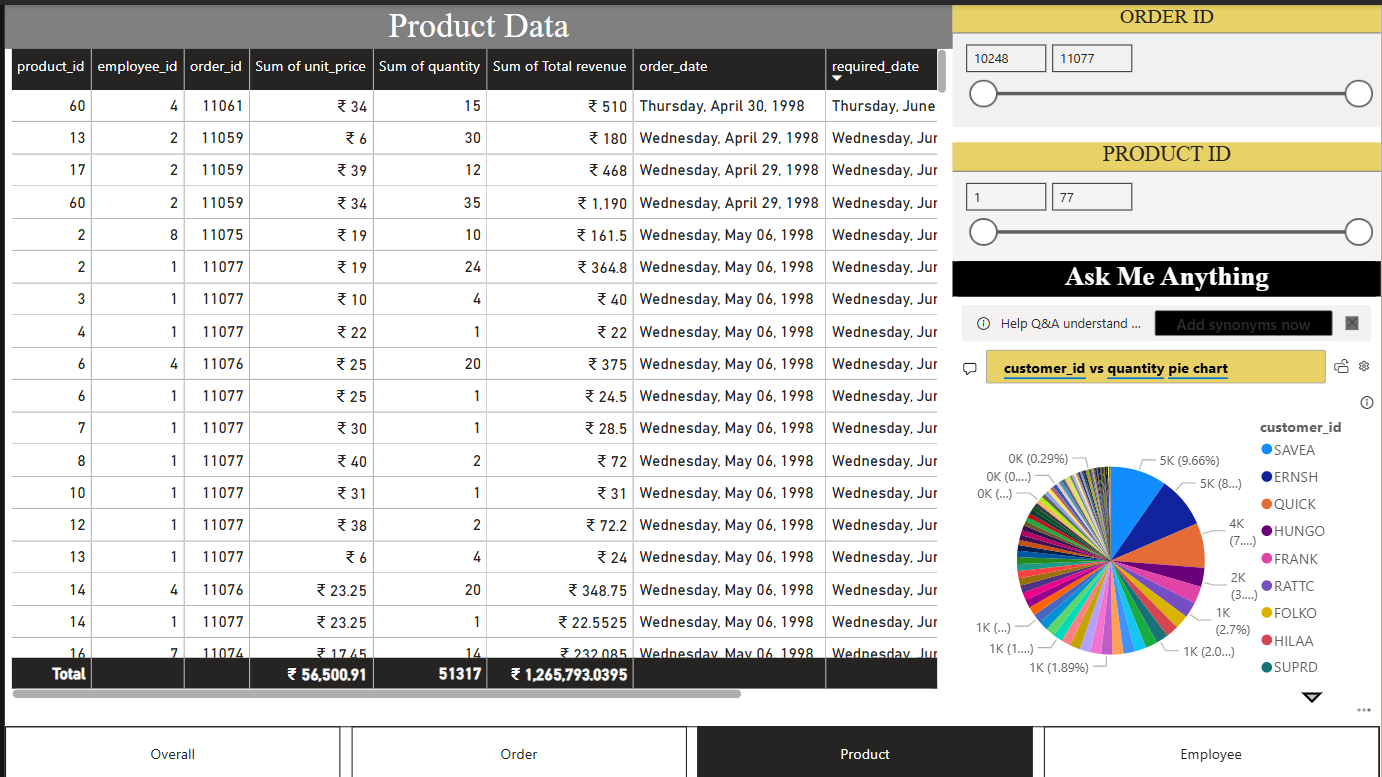

This screenshot's page, from the dashboard's own definition file:
{"tool":"powerbi","page":{"name":"Product","canvas":[1280,720],"ordinal":2},"visuals":[{"type":"tableEx","title":"Product Data","fields":{"Values":["Product Details.product_id","Shipping Details.employee_id","Shipping Details.order_id","Sum(Product Details.unit_price)","Sum(Product Details.quantity)","Sum(Product Details.Total revenue)","Shipping Details.order_date","Shipping Details.required_date","Shipping Details.shipped_date"]},"box":[0,0,881.3,650.3],"z":0},{"type":"slicer","title":"ORDER ID","fields":{"Values":["Product Details.order_id"]},"box":[881.3,0,398.7,113.9],"z":1000},{"type":"slicer","title":"PRODUCT ID","fields":{"Values":["Product Details.product_id"]},"box":[881.3,128.2,398.7,113.9],"z":2000},{"type":"qnaVisual","title":"Ask Me Anything","box":[881.3,238.9,398.7,431.9],"z":3000},{"type":"pageNavigator","box":[0,670.9,1279.4,49.1],"z":4000}]}

Visuals, with their boxes in screenshot pixels (x1, y1, x2, y2), scaled from the page's 1280x720 canvas onto the 1382x777 screenshot:
"Product Data" tableEx: rect(0, 0, 952, 702)
"ORDER ID" slicer: rect(952, 0, 1381, 123)
"PRODUCT ID" slicer: rect(952, 138, 1381, 261)
"Ask Me Anything" qnaVisual: rect(952, 258, 1381, 724)
pageNavigator: rect(0, 724, 1381, 776)
